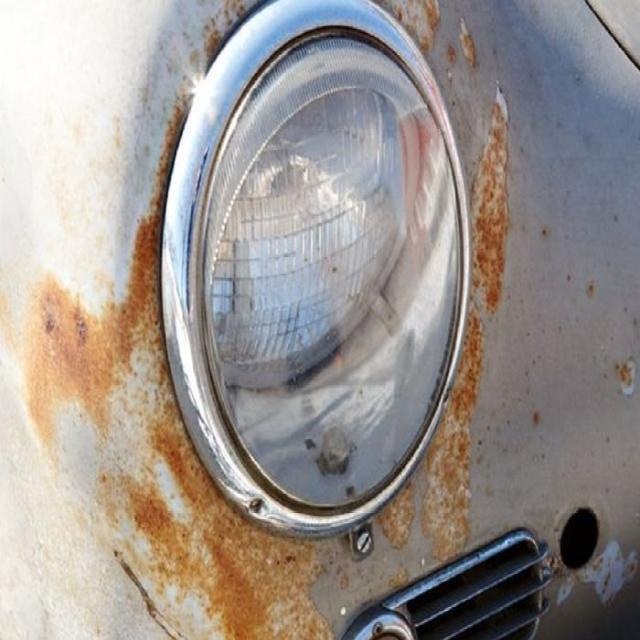corrosion: (24, 257, 182, 445), (202, 492, 335, 640), (97, 471, 192, 634), (131, 93, 193, 271), (424, 395, 477, 561), (472, 90, 510, 314), (147, 390, 215, 510), (451, 310, 485, 418), (175, 510, 216, 599), (392, 1, 441, 53), (379, 484, 416, 549), (461, 19, 476, 68), (620, 355, 635, 387), (447, 45, 459, 65)
